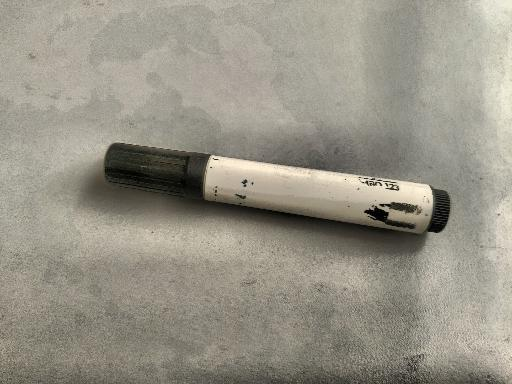marcador negro: (104, 143, 450, 233)
